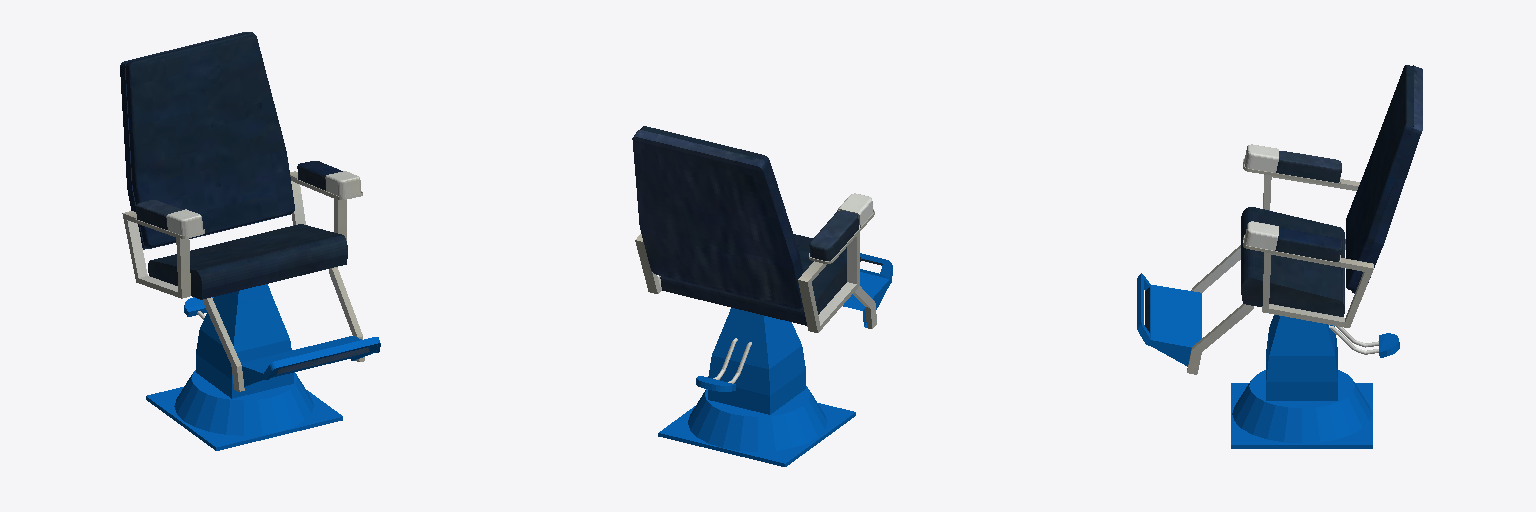
The picture shows the model from 3 angles: view 1: azimuth 30°, elevation 25°; view 2: azimuth 150°, elevation 25°; view 3: azimuth 270°, elevation 25°; orthographic projection.
Visible parts, largest first — view 1: barber_chair.obj; view 2: barber_chair.obj; view 3: barber_chair.obj.
Boxes of the visible parts, x1,y1,x2,y2 form: barber_chair.obj: [120, 32, 380, 450]; barber_chair.obj: [632, 126, 892, 466]; barber_chair.obj: [1137, 65, 1422, 448].
Size of the model in its own units: 16.39 by 27.38 by 21.95.
Materials: 1 (1 with a texture image).